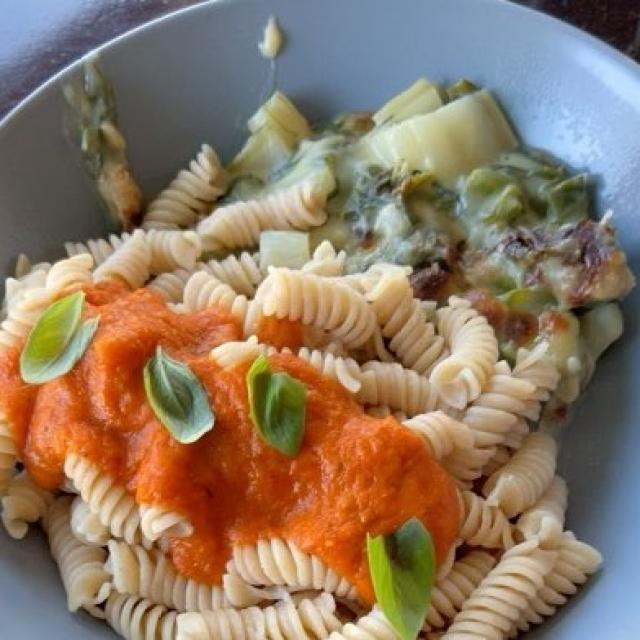pasta: (2, 143, 602, 637)
tomato-sauce: (6, 276, 443, 595)
vegetables-baked: (213, 79, 624, 401)
